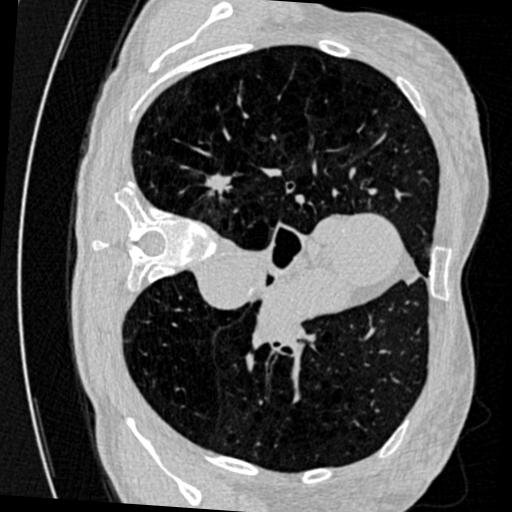nodule: (204, 168, 236, 200)
